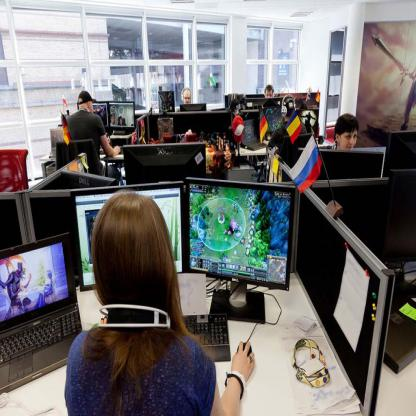face: (341, 128, 358, 151), (184, 93, 192, 107), (89, 100, 95, 117), (266, 89, 273, 103), (112, 116, 115, 123), (121, 119, 123, 125)
